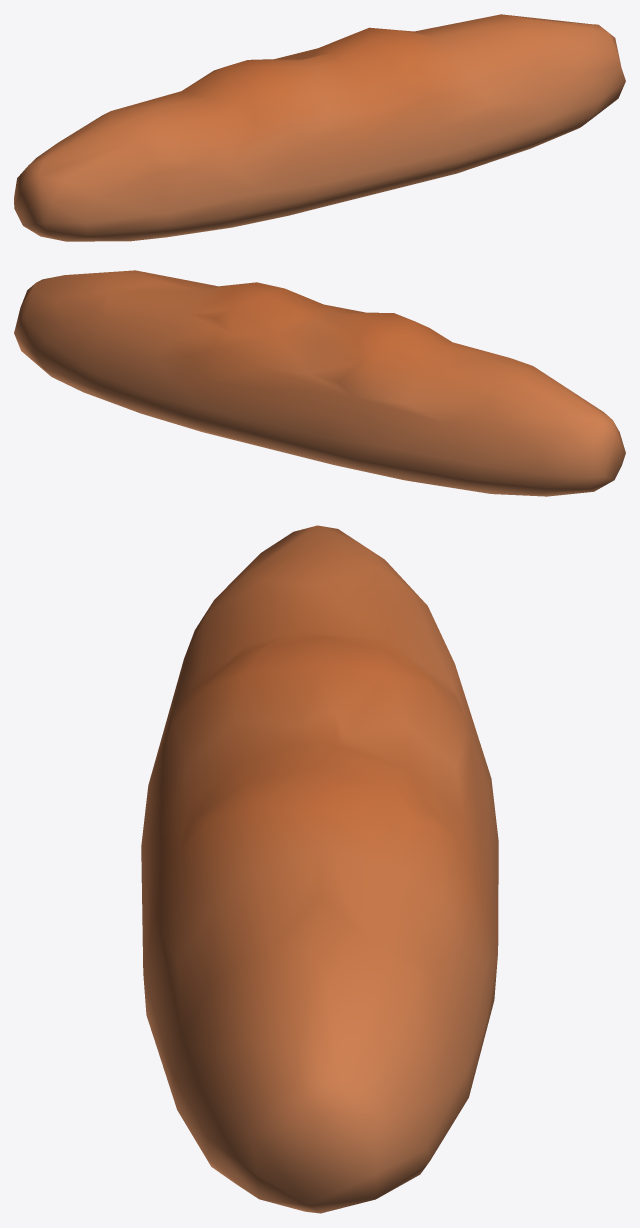
File: Bread_2.fbx
3 renders of one model, top to bottom at view 1: azimuth 30°, elevation 25°; view 2: azimuth 150°, elevation 25°; view 3: azimuth 270°, elevation 25°, orthographic. The views are drawn at different scales.
Parts seen in each view (by area): view 1: Bread_2; view 2: Bread_2; view 3: Bread_2.
Boxes of the visible parts, x1=… form: Bread_2: x1=14, y1=14, x2=625, y2=241; Bread_2: x1=14, y1=270, x2=625, y2=496; Bread_2: x1=141, y1=525, x2=498, y2=1213.
Bounding box in the file's own units: 60.61 × 13.28 × 15.91.
